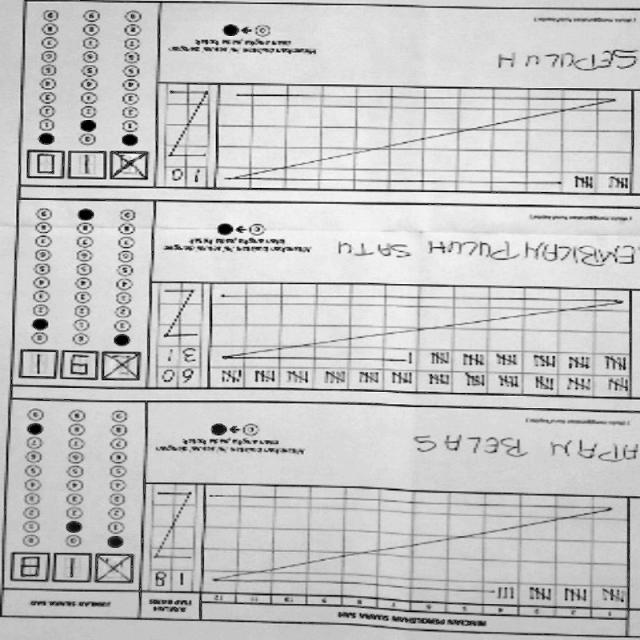Suara: (9, 550, 138, 591), (25, 152, 154, 190), (21, 351, 140, 392)
